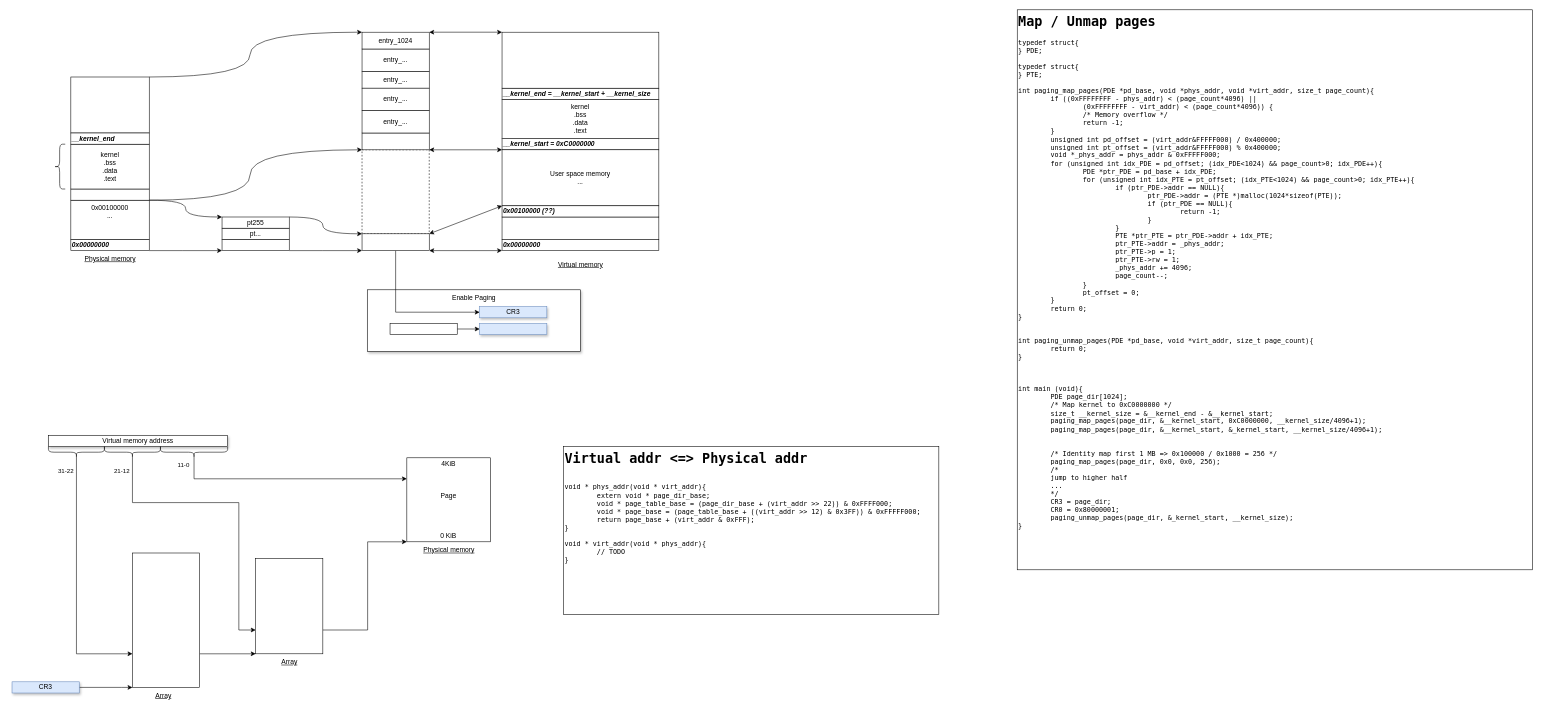
Image size: 1542x714. Some labels were removed from this diagram. Here are the shapes that lost their labels. From the top down, the centre of each, then its label:
At pixel 580 60: "__kernel_stack_top = 0xFFFFFFFF __kernel_heap_bottom".
At pixel 109 104: "__kernel_stack_top __kernel_heap_bottom".
At pixel 395 141: "entry_768".
At pixel 59 166: "Kernel image".
At pixel 109 194: "__kernel_start".
At pixel 255 245: "pt0".
At pixel 395 242: "entry_1".
At pixel 580 227: "I/O identity mapping".
At pixel 423 329: "0x80000001".
At pixel 513 330: "CR0".
At pixel 166 619: "Page directory".
At pixel 289 606: "Page table".
